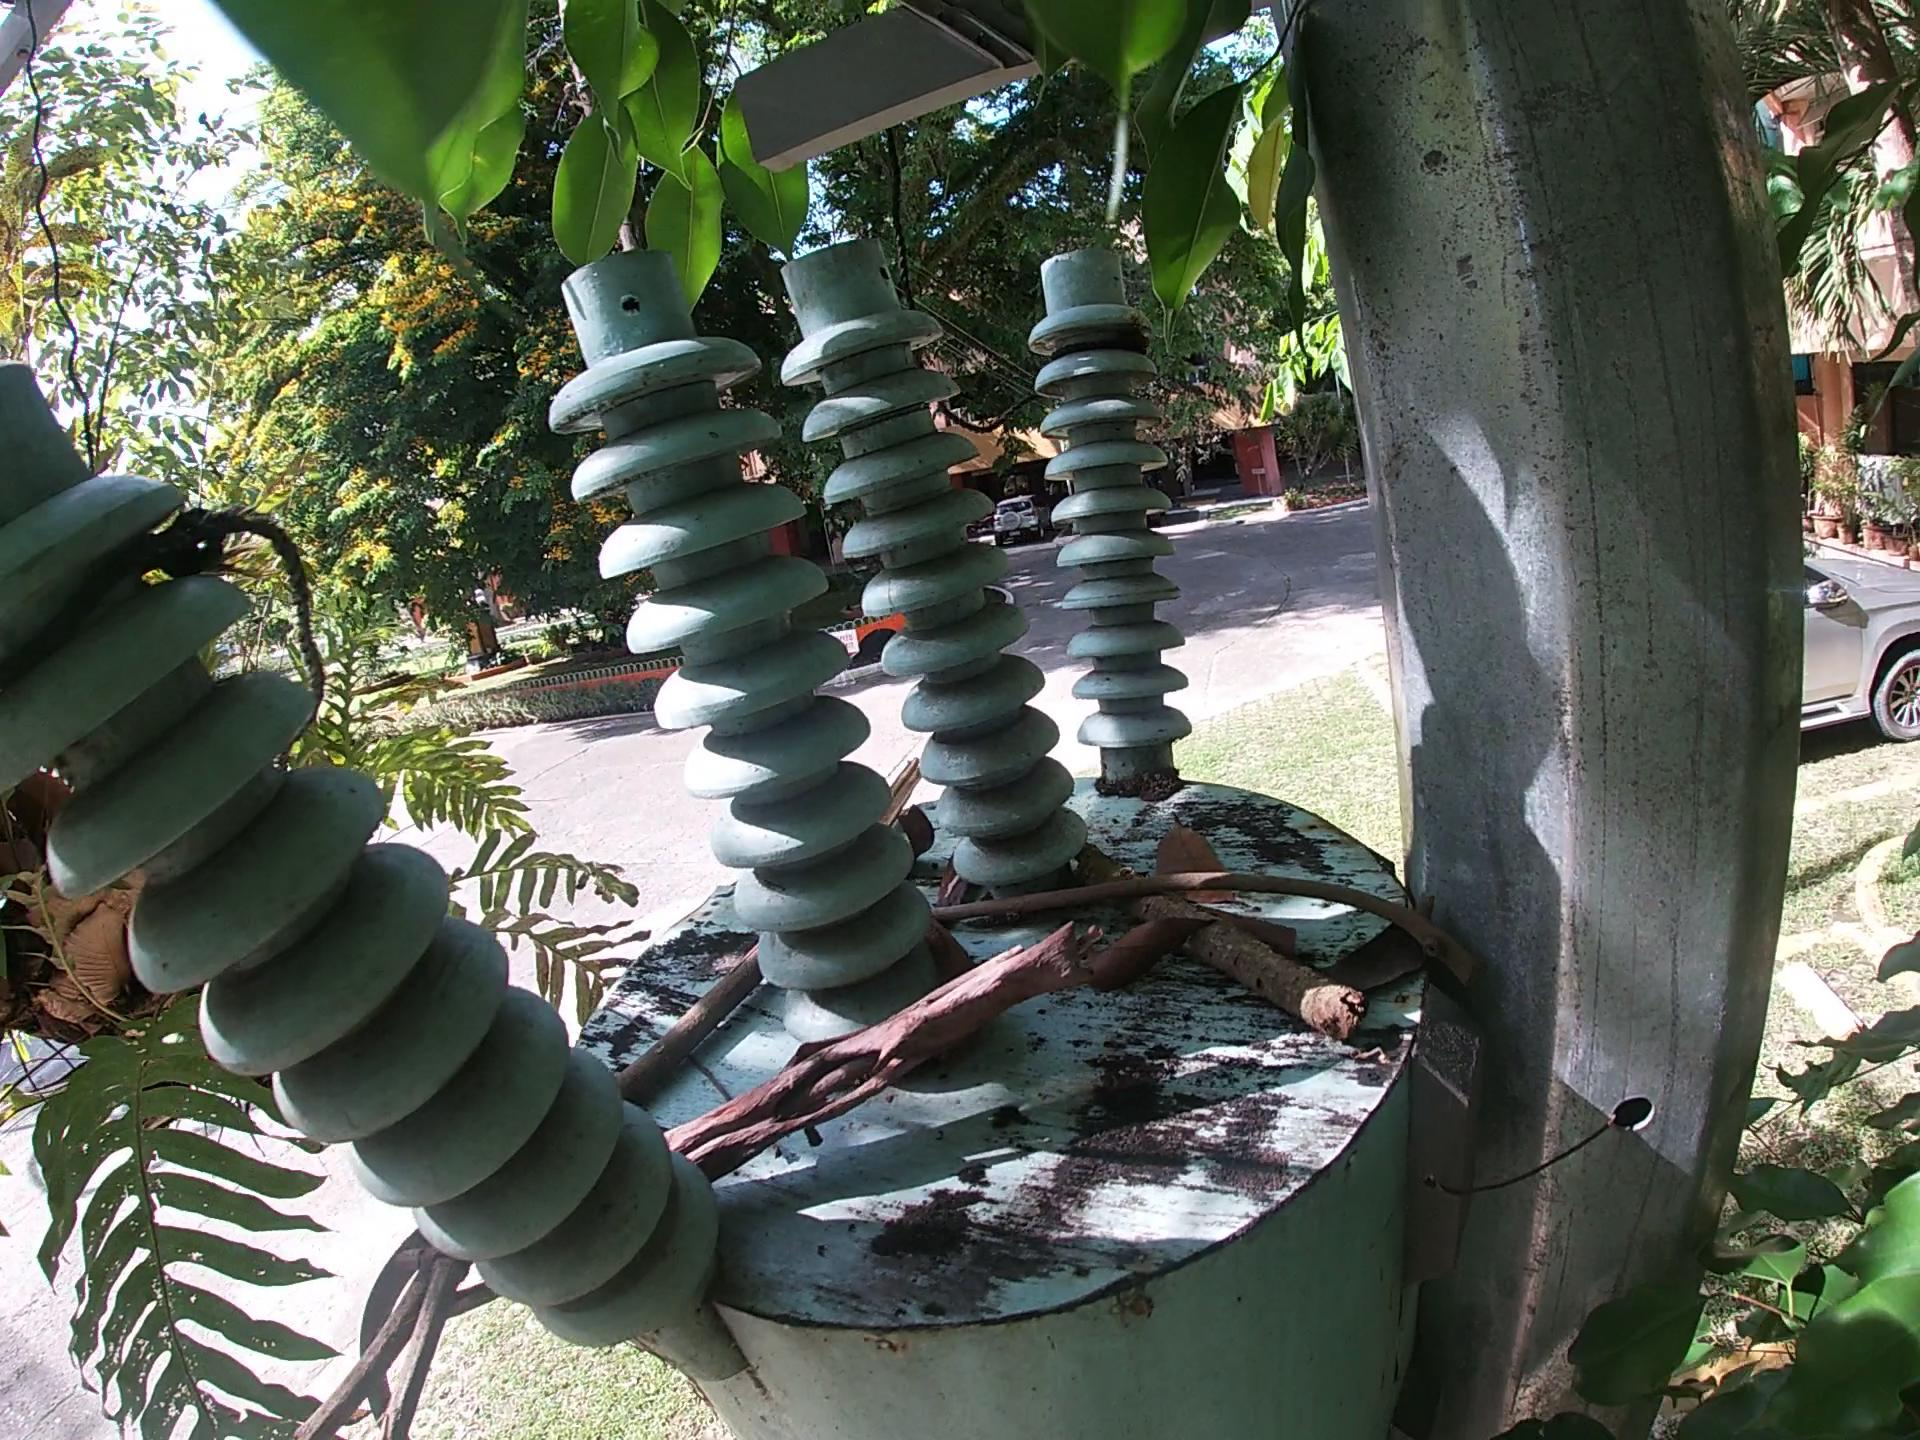leaf: (1315, 873, 1435, 998), (1073, 908, 1222, 1004), (1143, 811, 1240, 912), (1212, 905, 1305, 956)
mahogany fruit: (931, 911, 992, 1088), (892, 805, 943, 877)
tree branch: (655, 915, 1114, 1190), (924, 861, 1489, 998), (1066, 836, 1383, 1051), (275, 1230, 481, 1440), (608, 945, 777, 1115), (874, 752, 928, 827)
